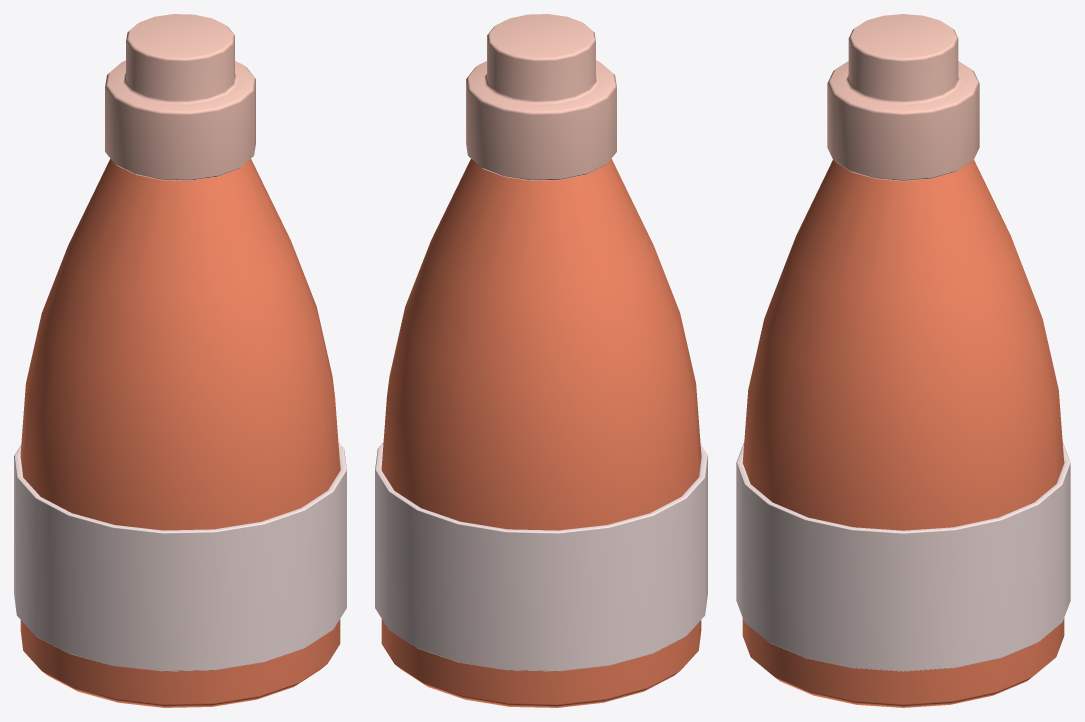
Rendered from Public_13_Bottle_3.glb.
The picture shows the model from 3 angles, left to right: view 1: azimuth 30°, elevation 25°; view 2: azimuth 150°, elevation 25°; view 3: azimuth 270°, elevation 25°; orthographic projection.
Visible parts, largest first — view 1: Public_13_Bottle_3; view 2: Public_13_Bottle_3; view 3: Public_13_Bottle_3.
Boxes of the visible parts, box(x1,y1,x2,y2) form: Public_13_Bottle_3: box(14, 14, 346, 707); Public_13_Bottle_3: box(375, 14, 707, 707); Public_13_Bottle_3: box(736, 14, 1070, 707).
Bounding box in the file's own units: 0.3993 × 0.8001 × 0.3993.
Materials: 1 (1 with a texture image).
